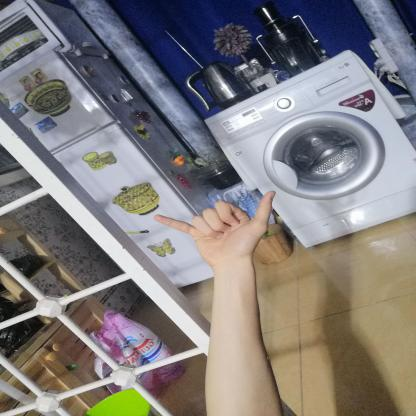YA: (144, 184, 292, 275)
